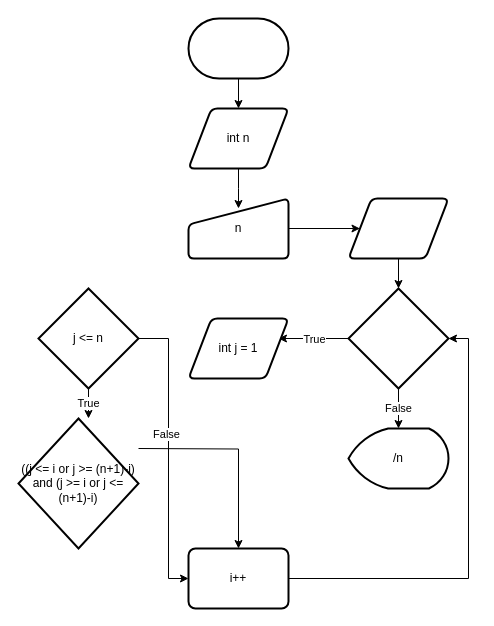
This 494x626 diagram has some shape labels left out. The centre of each missing label's shape, as x and y in pixels:
"i <= n" belongs at (x=398, y=338).
"int i = 1" belongs at (x=398, y=228).
"Start" belongs at (x=238, y=48).
